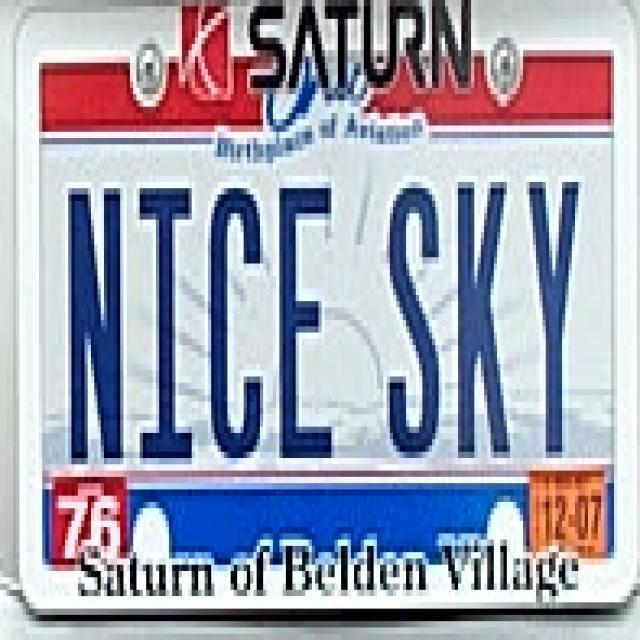C: (203, 168, 270, 462)
E: (274, 178, 354, 472), (384, 170, 442, 467)
I: (133, 173, 201, 473)
K: (452, 169, 518, 467)
N: (55, 162, 135, 476)
Y: (526, 164, 597, 452)
